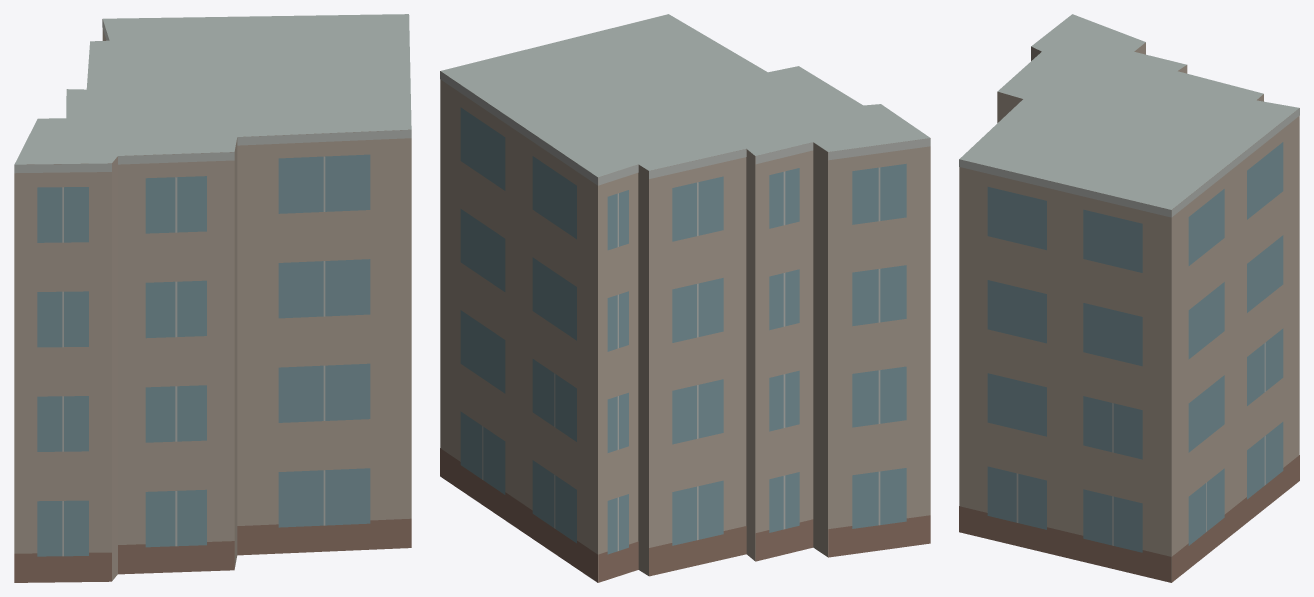
The model's file is survey-upis-32873118.glb.
3 views of the same model, side by side, from view 1: azimuth 30°, elevation 25°; view 2: azimuth 150°, elevation 25°; view 3: azimuth 270°, elevation 25° (orthographic). The views are drawn at different scales.
Parts seen in each view (by area): view 1: survey-upis-32873118.tmp; view 2: survey-upis-32873118.tmp; view 3: survey-upis-32873118.tmp.
Boxes of the visible parts, x1,y1,x2,y2 form: survey-upis-32873118.tmp: (14,14,411,582); survey-upis-32873118.tmp: (440,14,930,582); survey-upis-32873118.tmp: (959,14,1299,582).
Size of the model in its own units: 13.42 by 11.9 by 9.86.
